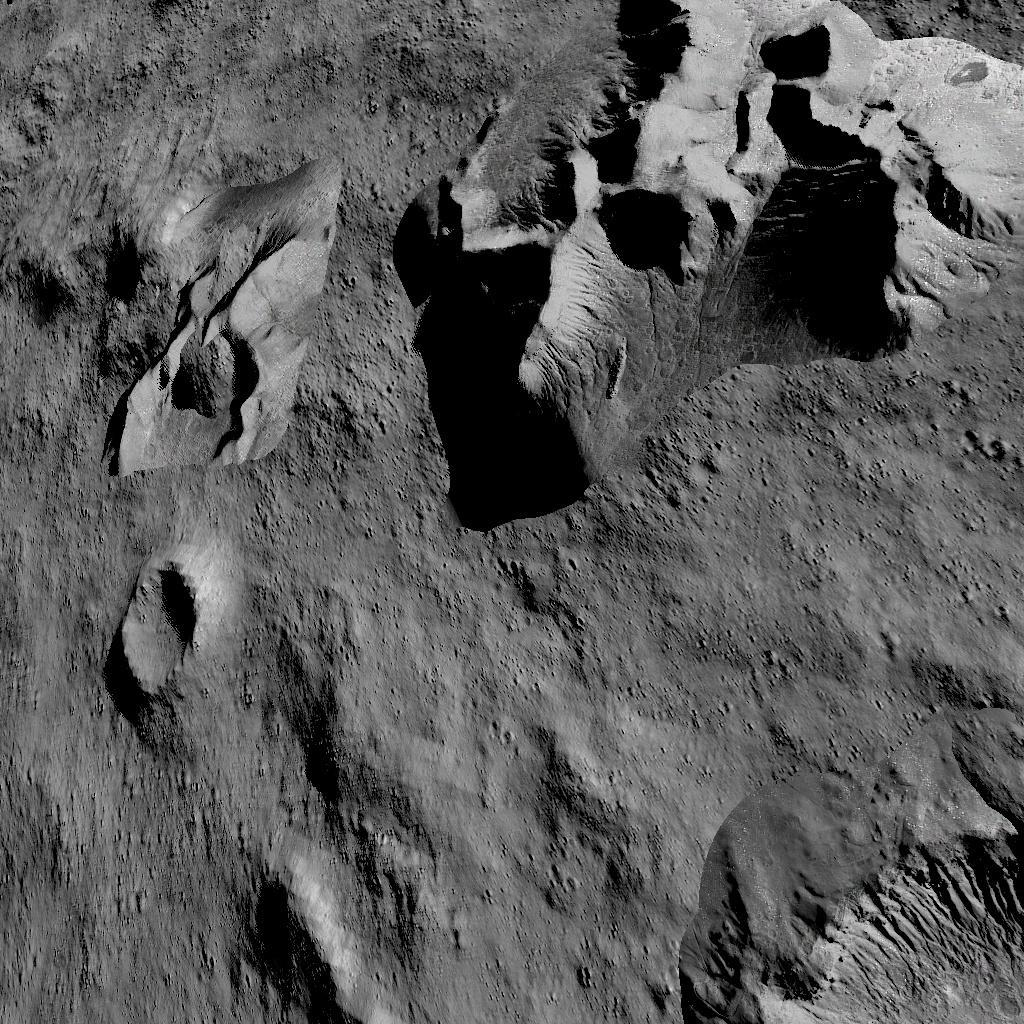Boulders: (357, 0, 1024, 527), (232, 916, 348, 1018)
Crater: (5, 186, 315, 466), (749, 846, 1024, 1024), (76, 528, 238, 742), (270, 728, 355, 826), (128, 0, 211, 31)
Plan surface: (377, 569, 724, 1016), (747, 546, 1024, 796), (13, 768, 214, 1024), (10, 45, 340, 173)
